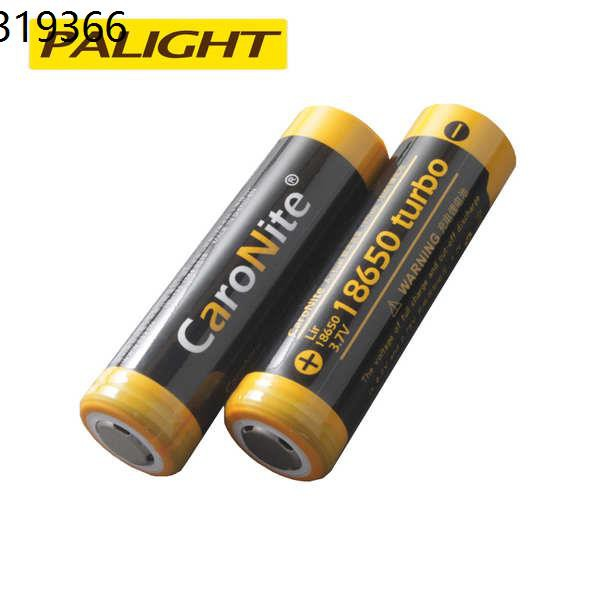Battery: (76, 103, 390, 480), (223, 102, 519, 482)
